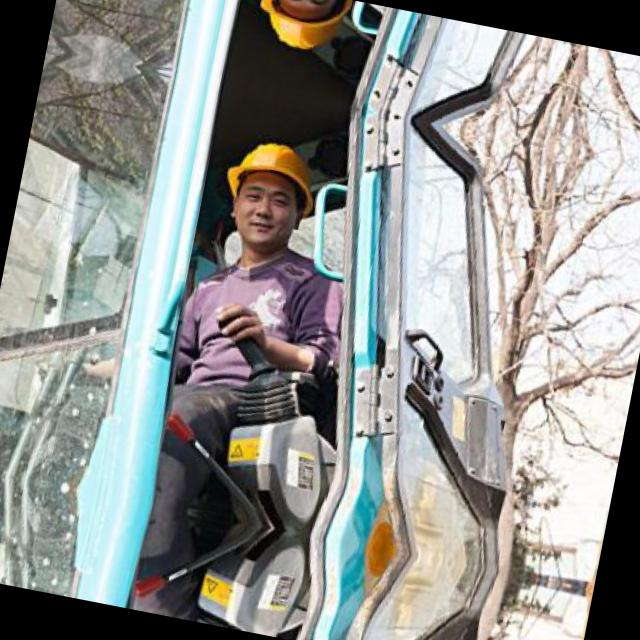helmet: (207, 120, 326, 261), (242, 0, 353, 71)
